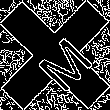M_NW: (21, 21, 89, 89)
